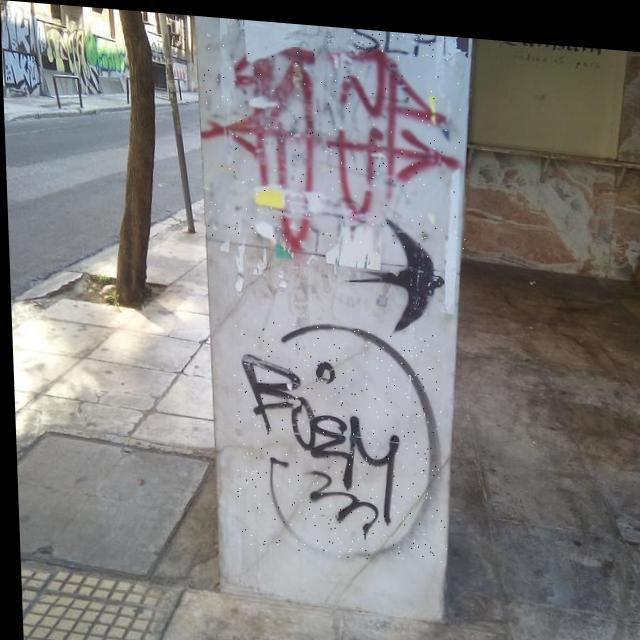-: (200, 35, 466, 254), (228, 316, 444, 560), (350, 22, 442, 52)
